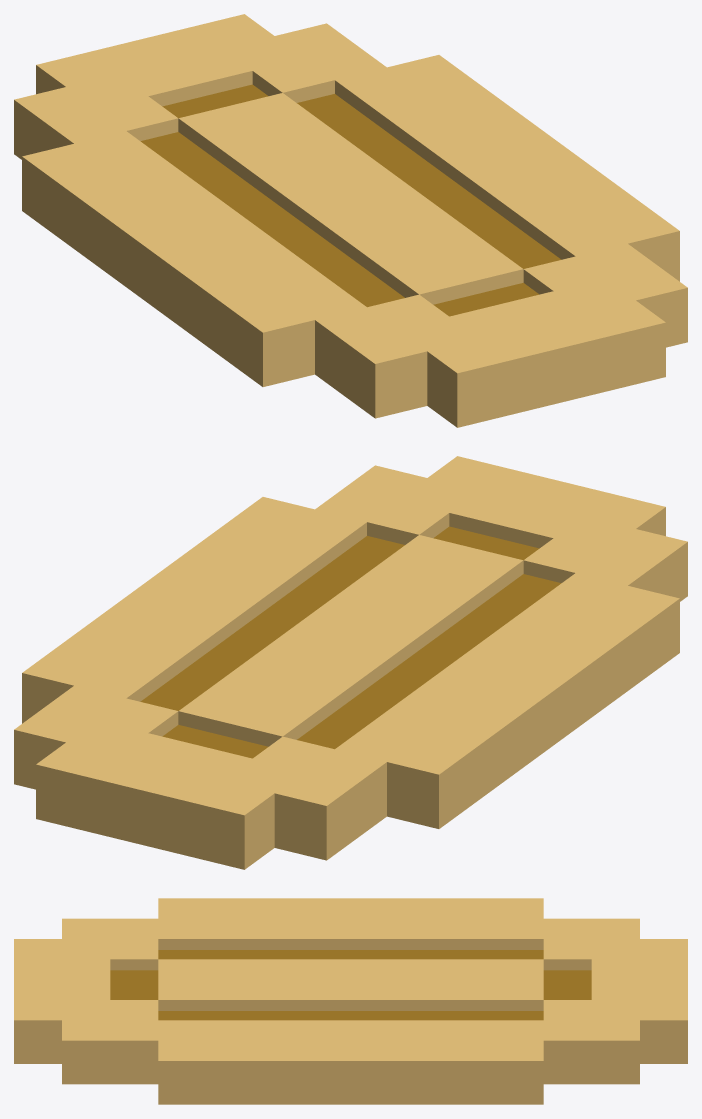
File: Coin v3.fbx
3 views of the same model, one above another, from view 1: azimuth 30°, elevation 25°; view 2: azimuth 150°, elevation 25°; view 3: azimuth 270°, elevation 25° (orthographic). The views are drawn at different scales.
Visible parts, largest first — view 1: Outer, Inner; view 2: Outer, Inner; view 3: Outer, Inner.
Boxes of the visible parts, bbox=[...] form: Outer: bbox=[14, 14, 687, 427]; Inner: bbox=[140, 84, 561, 316]; Outer: bbox=[14, 456, 687, 869]; Inner: bbox=[140, 526, 561, 758]; Outer: bbox=[14, 898, 687, 1104]; Inner: bbox=[110, 950, 591, 1020].
Size of the model in its own units: 8 by 1 by 14.
